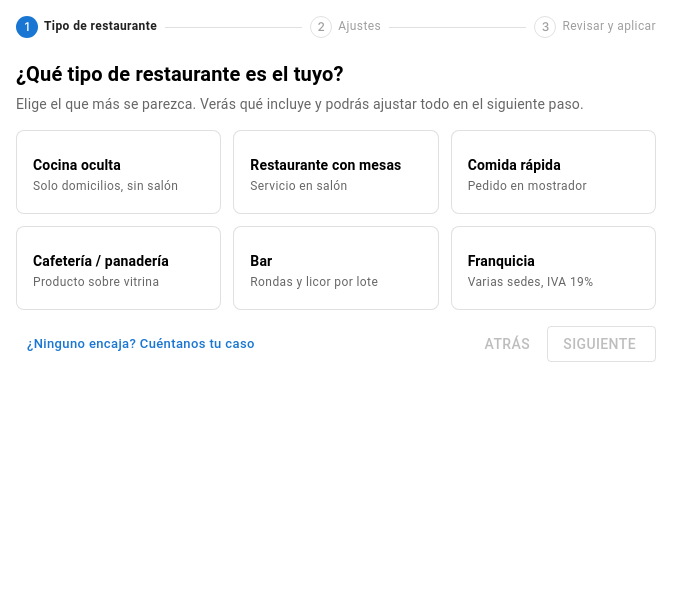
Test: Paso 2 — Ejes › renderiza las preguntas de ajuste
Click the text "Restaurante con mesas" at (336, 165), box [250,155,422,175]
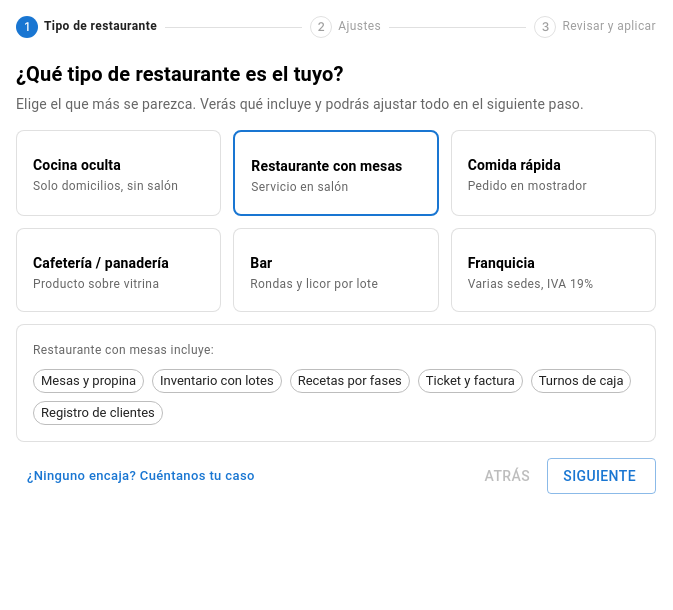
Click the button "Siguiente" at (602, 476), box [547,458,656,494]
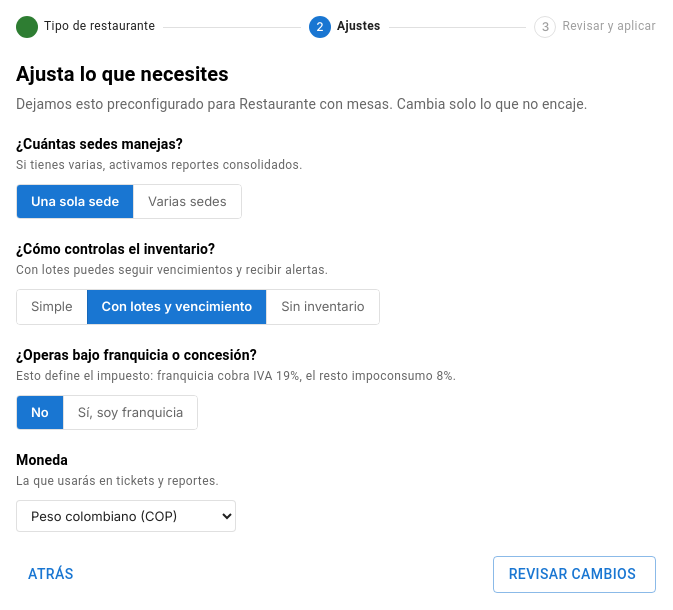
Expected: the text "¿Cuántas sedes manejas?" is shown, [16,136,183,152]
Expected: the text "¿Cómo controlas el inventario?" is shown, [16,241,215,257]
Expected: the text "¿Operas bajo franquicia o concesión?" is shown, [16,347,257,363]
